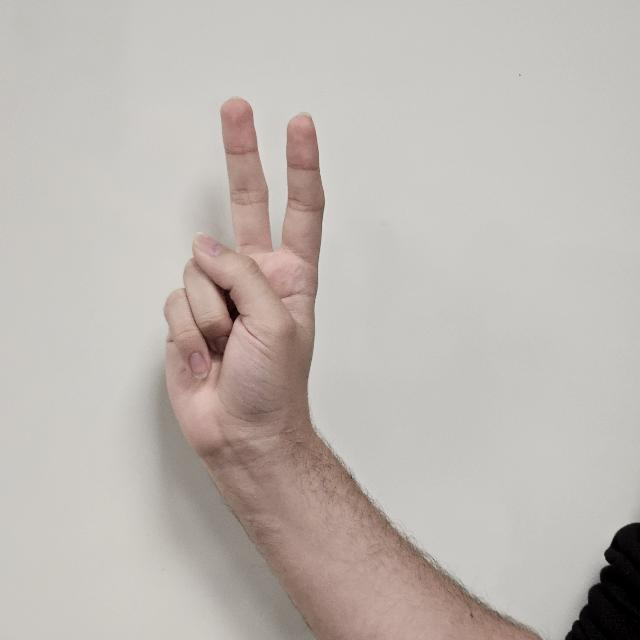Triangulo: (164, 96, 330, 474)
